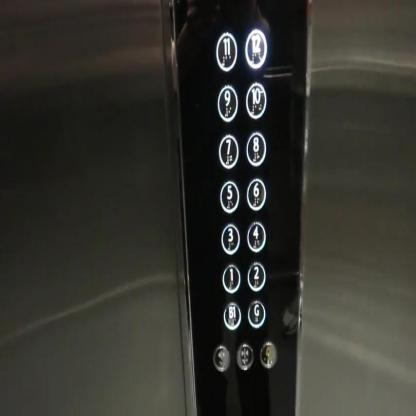1: (222, 263, 240, 294)
10: (245, 80, 266, 120)
11: (214, 31, 237, 70)
12: (244, 27, 267, 70)
2: (247, 260, 265, 293)
3: (219, 222, 240, 254)
4: (246, 220, 266, 251)
5: (219, 177, 240, 213)
6: (245, 175, 266, 211)
7: (217, 132, 239, 167)
8: (244, 130, 266, 166)
9: (217, 83, 237, 122)
B1: (223, 300, 241, 330)
G: (246, 297, 266, 326)
alarm: (259, 340, 277, 366)
close: (234, 341, 254, 370)
open: (212, 344, 230, 373)
